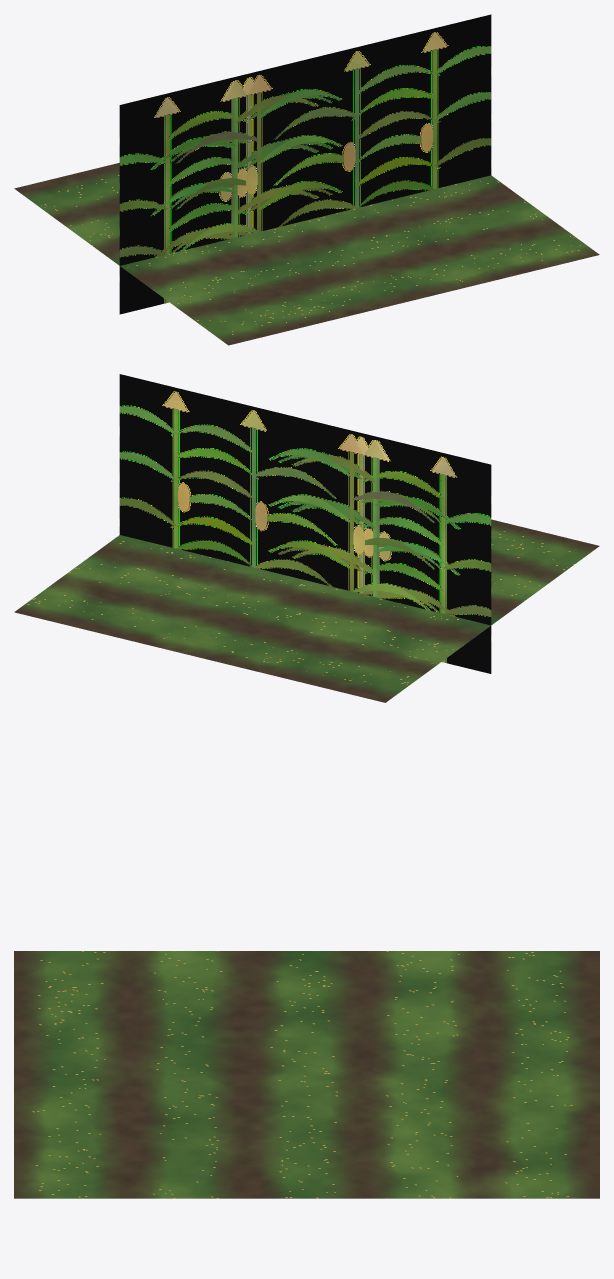
File: Crop_Corn_1_LOD2.gltf
The picture shows the model from 3 angles, top to bottom: view 1: azimuth 30°, elevation 25°; view 2: azimuth 150°, elevation 25°; view 3: azimuth 270°, elevation 25°; orthographic projection. The views are drawn at different scales.
Visible parts, largest first — view 1: Crop_Corn_1_LOD2; view 2: Crop_Corn_1_LOD2; view 3: Crop_Corn_1_LOD2.
Boxes of the visible parts, box(x1,y1,x2,y2) form: Crop_Corn_1_LOD2: box(14, 14, 599, 345); Crop_Corn_1_LOD2: box(14, 374, 599, 702); Crop_Corn_1_LOD2: box(14, 951, 599, 1198).
Bounding box in the file's own units: 4 × 2.16 × 4.
2 materials, 2 textured.
